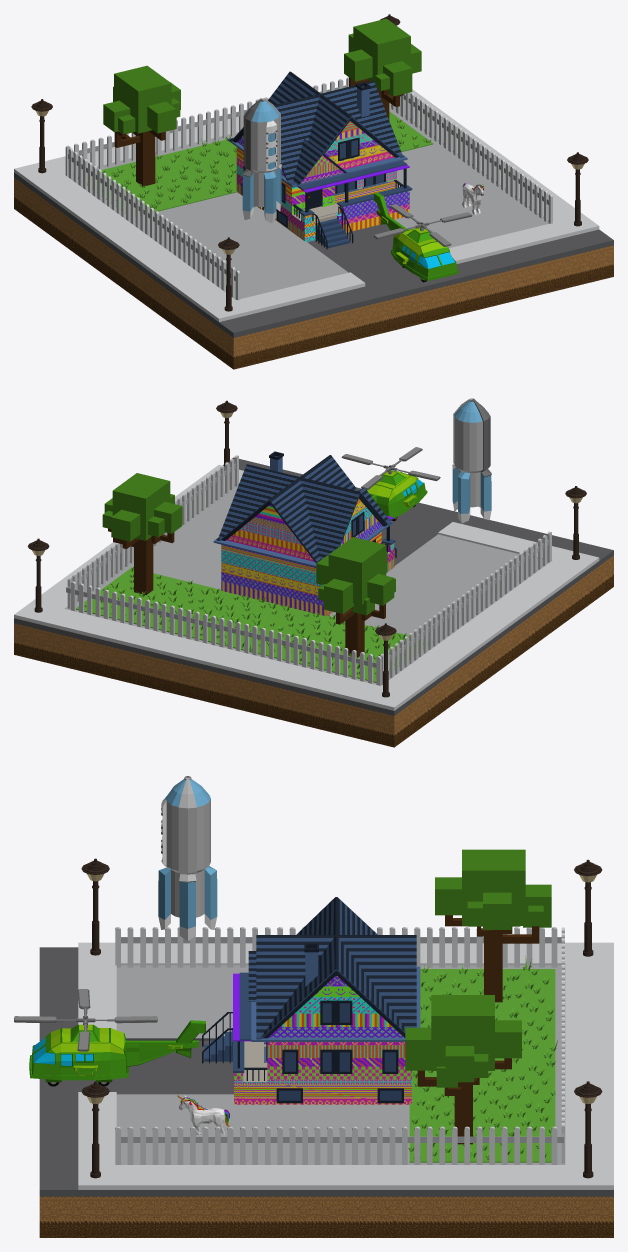
3 views of the same model, one above another, from view 1: azimuth 30°, elevation 25°; view 2: azimuth 150°, elevation 25°; view 3: azimuth 270°, elevation 25° (orthographic). The views are drawn at different scales.
Parts seen in each view (by area): view 1: Cube.004, Cube.676, OBJRANDOM_ROCKETSHIP, VEHICLES_HELICOPTER, ANIMAL_UNICORNIO; view 2: Cube.004, Cube.676, OBJRANDOM_ROCKETSHIP, VEHICLES_HELICOPTER; view 3: Cube.004, Cube.676, VEHICLES_HELICOPTER, OBJRANDOM_ROCKETSHIP, ANIMAL_UNICORNIO.
Boxes of the visible parts, x1,y1,x2,y2 form: Cube.004: (14,14,613,369); Cube.676: (228,71,412,249); OBJRANDOM_ROCKETSHIP: (242,98,281,223); VEHICLES_HELICOPTER: (373,192,472,282); ANIMAL_UNICORNIO: (462,183,483,214); Cube.004: (14,400,613,747); Cube.676: (213,451,396,616); OBJRANDOM_ROCKETSHIP: (452,398,491,523); VEHICLES_HELICOPTER: (341,447,440,521); Cube.004: (39,849,613,1237); Cube.676: (202,897,420,1104); VEHICLES_HELICOPTER: (14,989,205,1086); OBJRANDOM_ROCKETSHIP: (158,776,217,940); ANIMAL_UNICORNIO: (177,1095,229,1136).
Bounding box in the file's own units: 4000 × 2322 × 4179.
45 materials, 7 textured.
